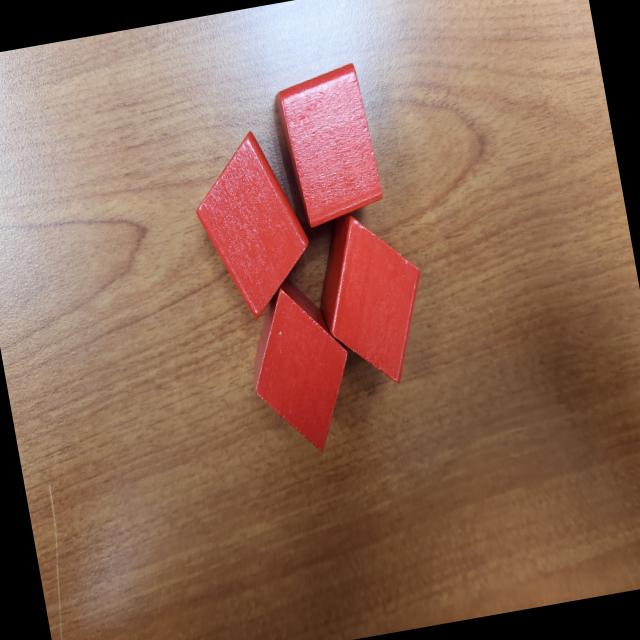red: (184, 125, 320, 322), (305, 201, 437, 392), (238, 272, 364, 459), (268, 62, 388, 235)
